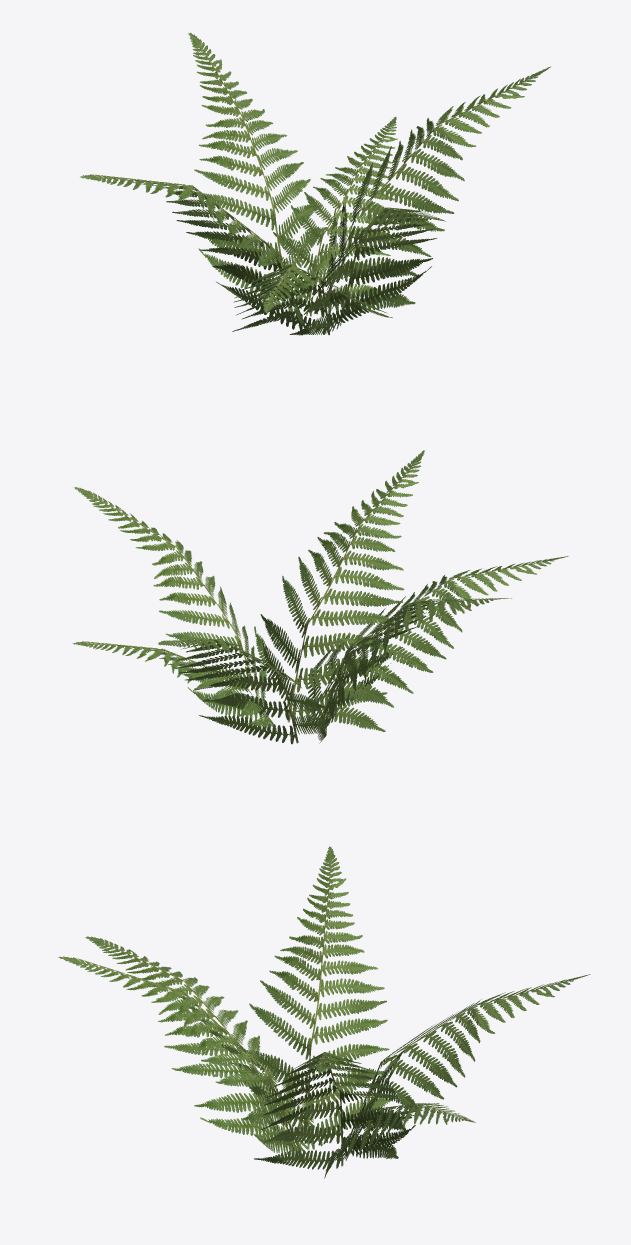
The model's file is SM_Fern_low.fbx.
The picture shows the model from 3 angles, top to bottom: view 1: azimuth 30°, elevation 25°; view 2: azimuth 150°, elevation 25°; view 3: azimuth 270°, elevation 25°; orthographic projection. The views are drawn at different scales.
Parts seen in each view (by area): view 1: SM_Fern_low; view 2: SM_Fern_low; view 3: SM_Fern_low.
Part boxes in pixels (bbox=[...]): SM_Fern_low: bbox=[80, 32, 550, 335]; SM_Fern_low: bbox=[72, 450, 568, 744]; SM_Fern_low: bbox=[58, 846, 590, 1178].
Size of the model in its own units: 26.2 by 26.88 by 12.35.
Materials: 1 (1 with a texture image).
